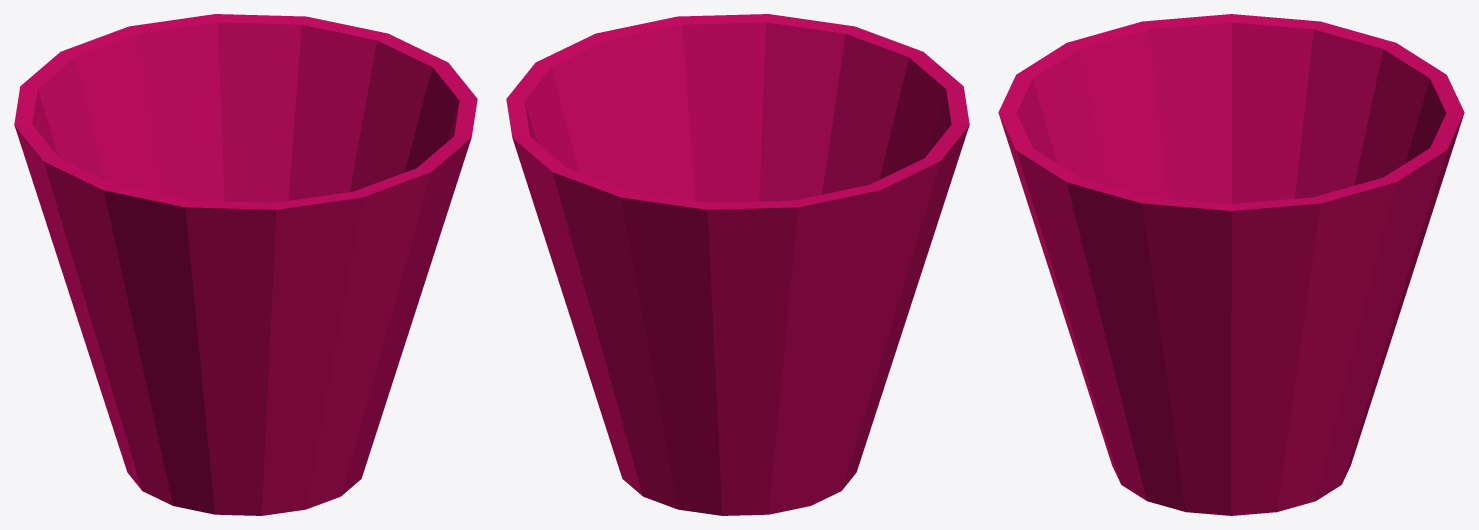
File: Trashbin (1).fbx
The picture shows the model from 3 angles, left to right: view 1: azimuth 30°, elevation 25°; view 2: azimuth 150°, elevation 25°; view 3: azimuth 270°, elevation 25°; orthographic projection.
Visible parts, largest first — view 1: Cylinder; view 2: Cylinder; view 3: Cylinder.
Part boxes in pixels (x1,y1,x2,y2): Cylinder: (14, 14, 477, 515); Cylinder: (506, 14, 969, 515); Cylinder: (998, 14, 1464, 515).
Size of the model in its own units: 40.61 by 34.05 by 40.61.
